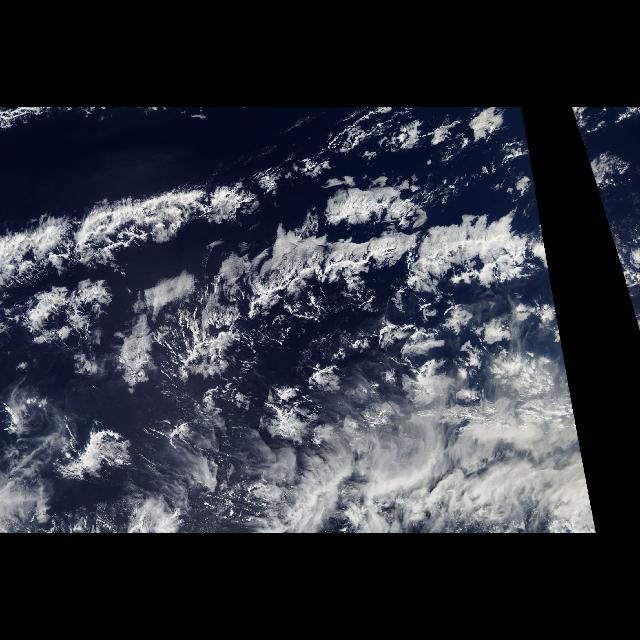Fish: (1, 144, 544, 316)
Flower: (291, 178, 507, 432)
